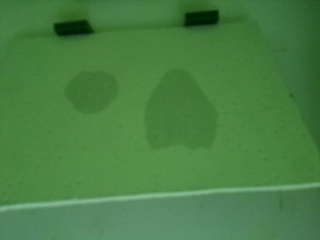Water_detected: (155, 79, 215, 138), (78, 73, 116, 113)
